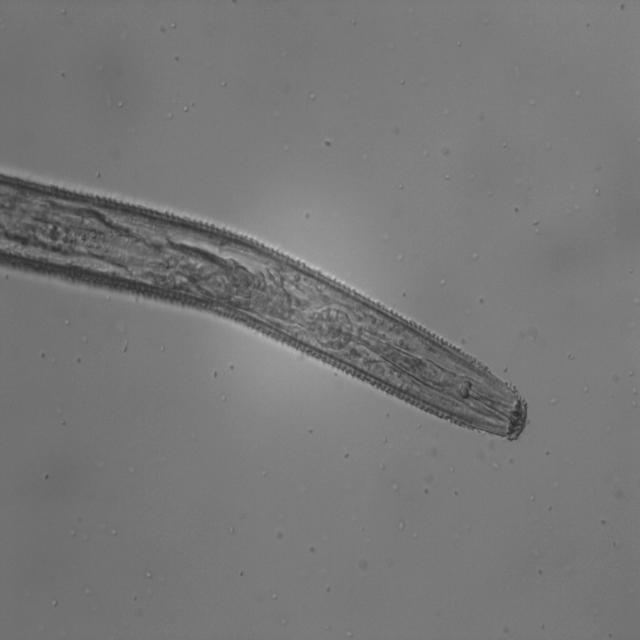Radopholus: (0, 175, 535, 460)
